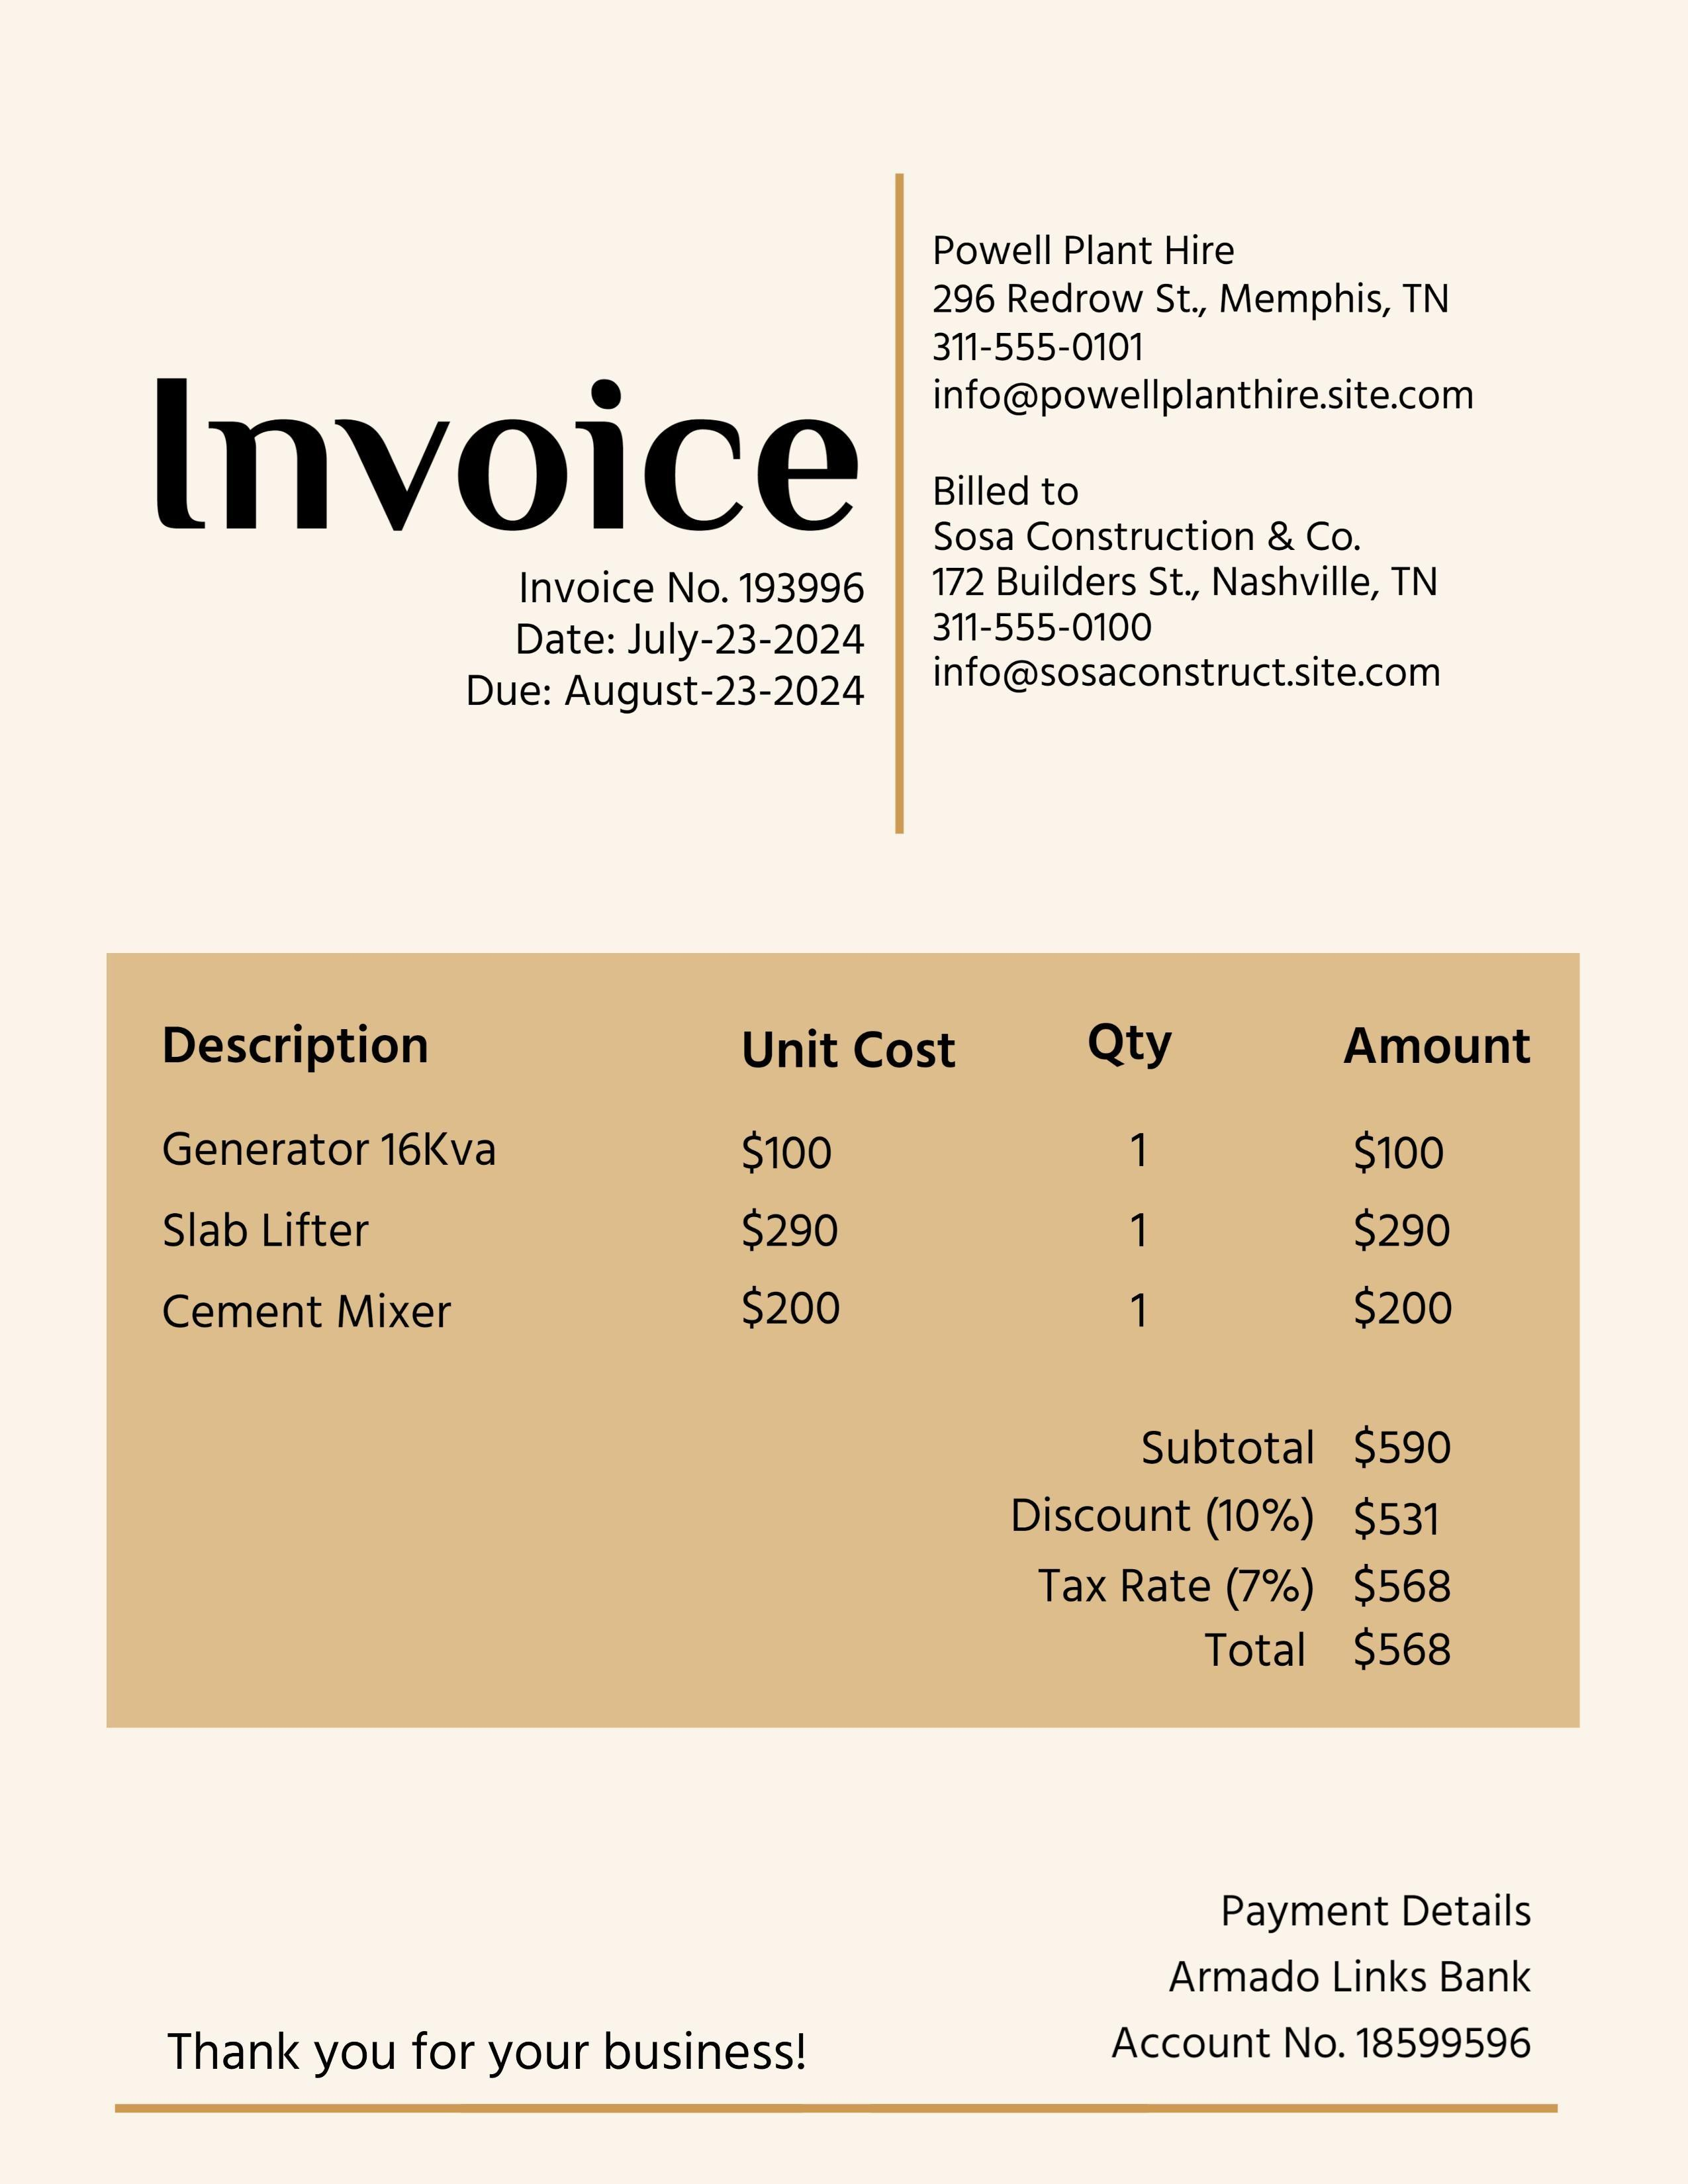ROI: (148, 1018, 1539, 1367), (927, 463, 1476, 705), (916, 216, 1497, 428), (1007, 1412, 1479, 1671), (1105, 1868, 1553, 2086), (461, 554, 867, 719)
